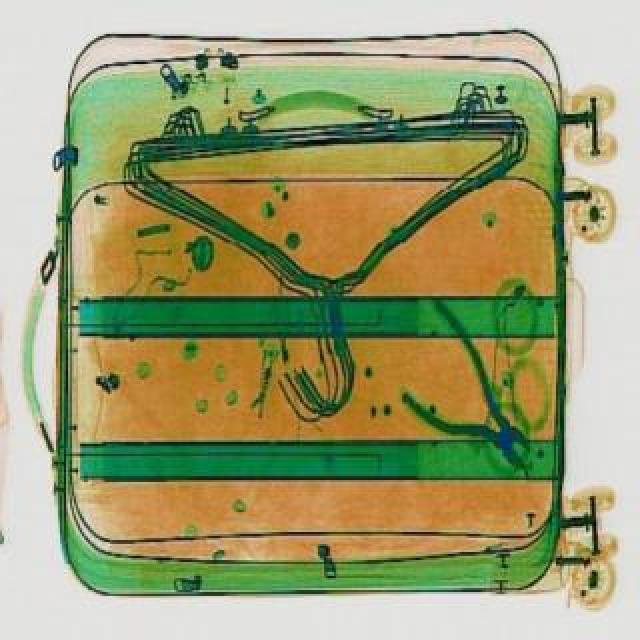wrench: (358, 294, 566, 490)
